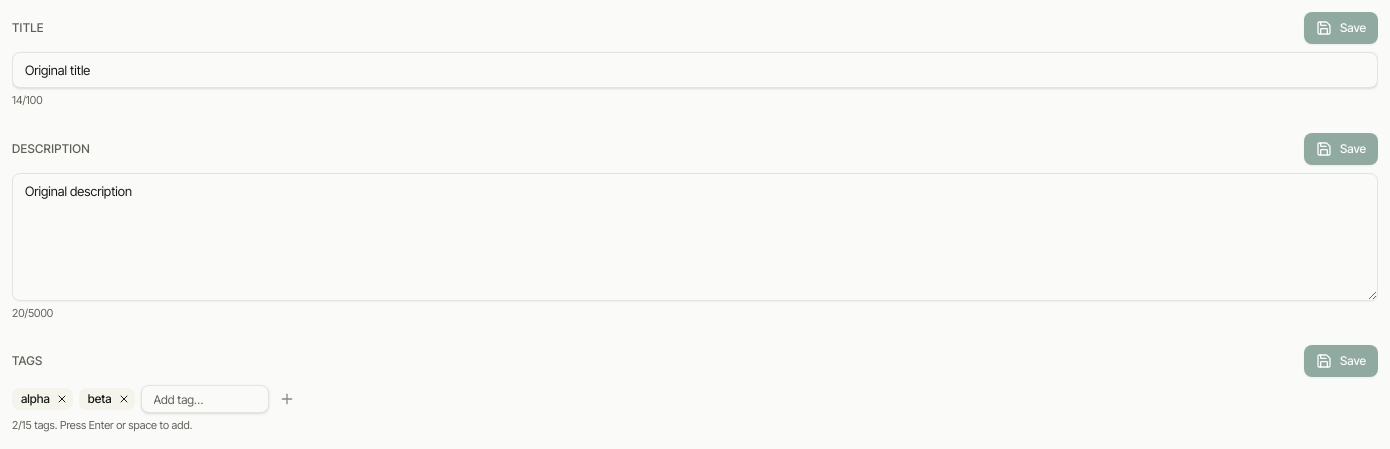
Scenario: VideoMetadataEditor › discards a dirty title back to the server value
Step 1. Replace the text in the field with test id "metadata-title-input" with "Will be discarded" → (695, 70), box [12,52,1378,88]
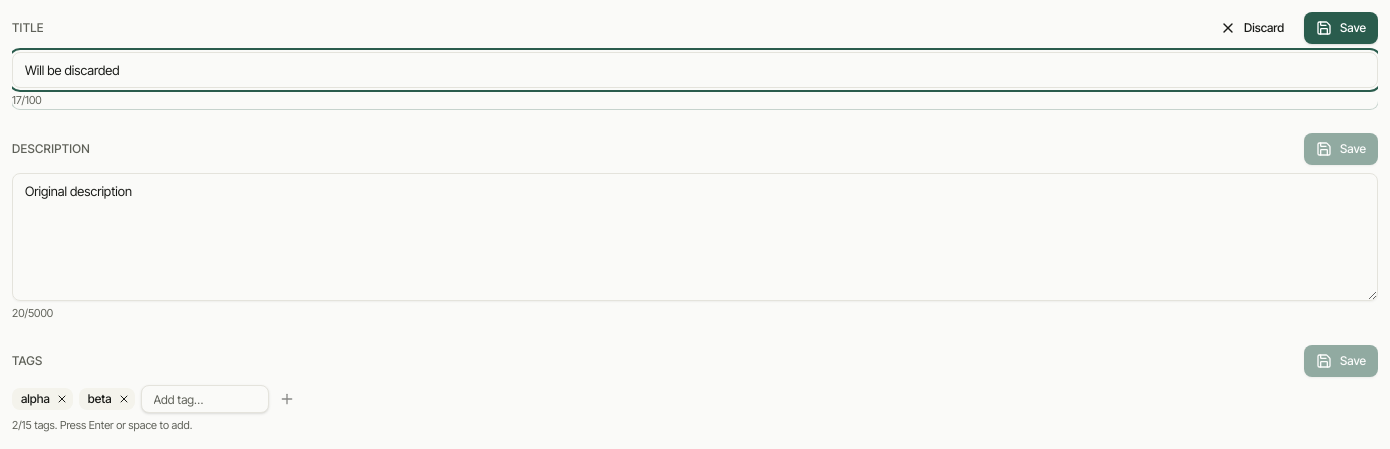
# Two buttons in the title row now: Discard, Save.
Step 2. Click the button "Discard" → click(1252, 28), box [1208,12,1296,44]
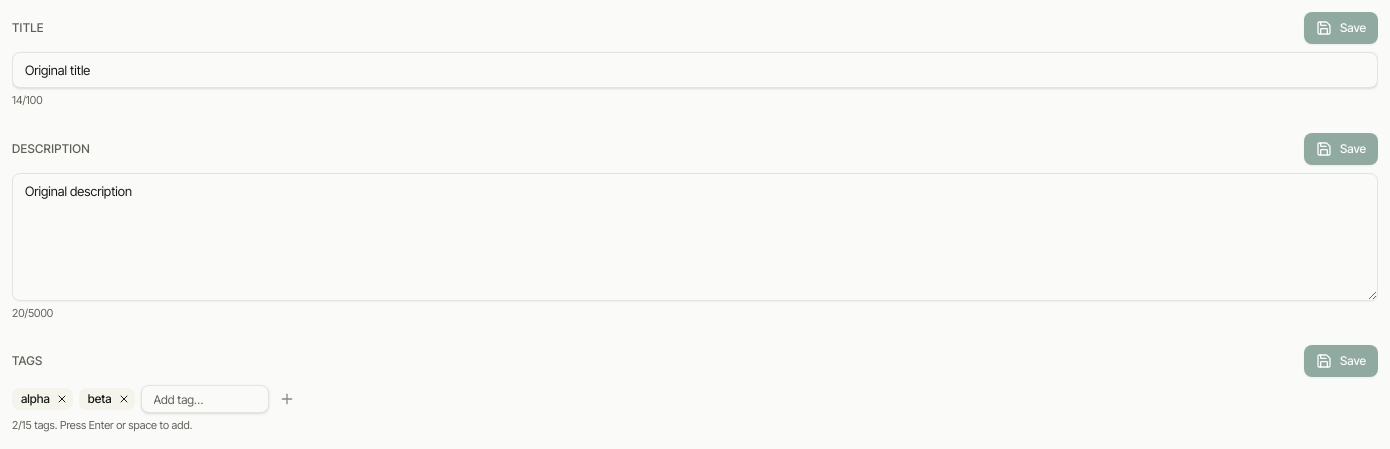
expect the field with test id "metadata-title-input" holds "Original title": met, box [12,52,1378,88]
